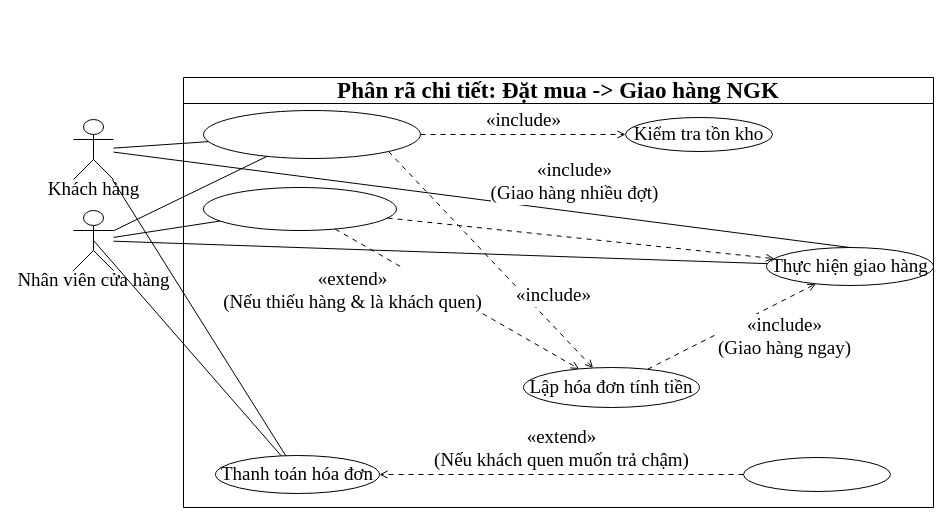
This 951x525 diagram has some shape labels left out. The centre of each missing label's shape, as x and y in pixels:
Lập phiếu ghi nợ: the point at 816,474
Lập phiếu hẹn giao hàng: the point at 299,208
Tiếp nhận yêu cầu mua NGK: the point at 311,134
